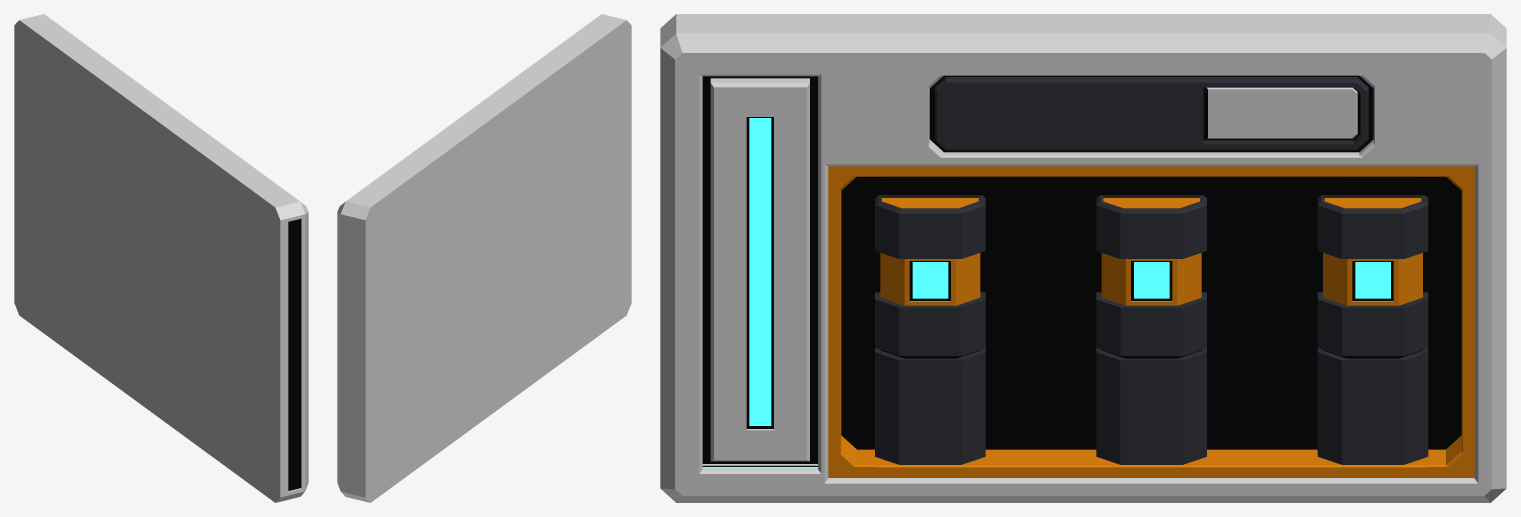
Rendered from SM_WallDecor_EnergyStorage_Panel.glb.
The picture shows the model from 3 angles, left to right: view 1: azimuth 30°, elevation 25°; view 2: azimuth 150°, elevation 25°; view 3: azimuth 270°, elevation 25°; orthographic projection. The views are drawn at different scales.
Parts seen in each view (by area): view 1: SM_WallDecor_EnergyStorage_Panel.001; view 2: SM_WallDecor_EnergyStorage_Panel.001; view 3: SM_WallDecor_EnergyStorage_Panel.001.
Part boxes in pixels (x1,y1,x2,y2): SM_WallDecor_EnergyStorage_Panel.001: (14,14,308,502); SM_WallDecor_EnergyStorage_Panel.001: (337,14,631,502); SM_WallDecor_EnergyStorage_Panel.001: (660,14,1506,502).
Bounding box in the file's own units: 0.286 × 2.45 × 4.
